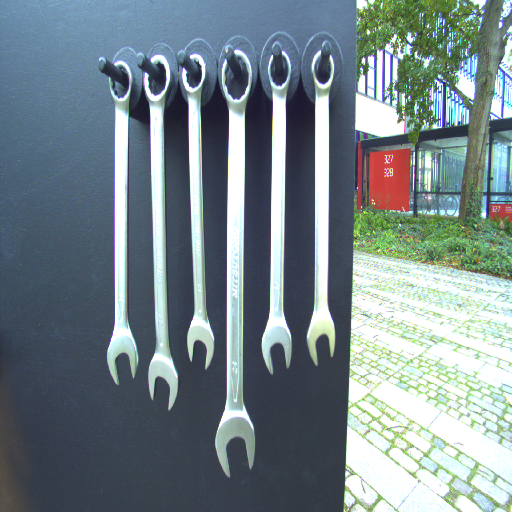bottom: (210, 404, 259, 478), (146, 348, 183, 413), (102, 326, 140, 387), (260, 314, 294, 374), (184, 312, 217, 371), (307, 307, 337, 364)
top: (219, 52, 255, 110), (142, 54, 172, 107), (180, 52, 211, 103), (104, 59, 135, 107), (310, 47, 337, 95), (266, 48, 292, 97)
